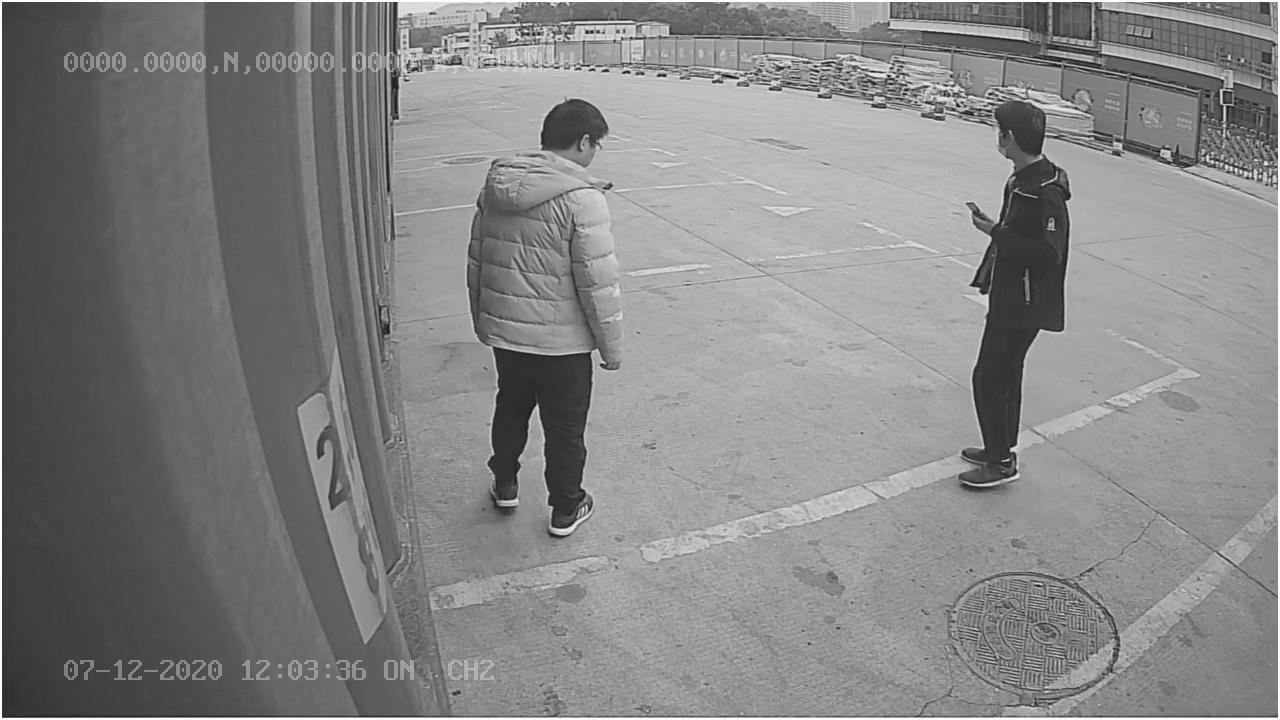person: (454, 95, 636, 540), (952, 97, 1079, 491)
